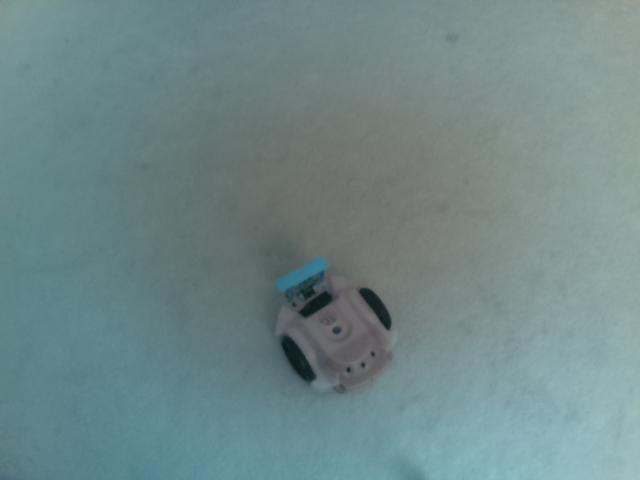board: (272, 253, 330, 298)
chassis: (269, 252, 406, 397)
